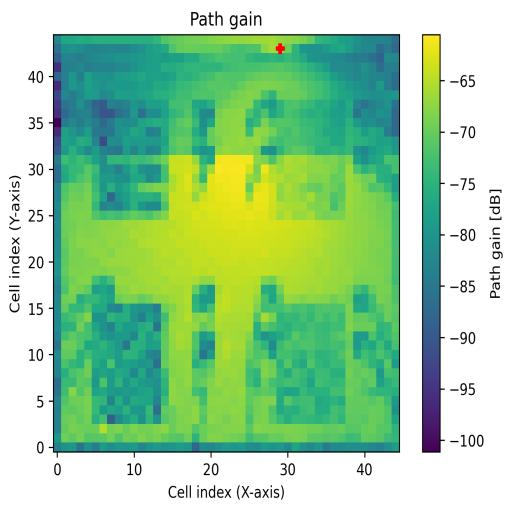Concrete: (269, 98, 346, 220)
Glass: (91, 71, 169, 219)
Metal: (276, 303, 347, 424)
Wood: (92, 303, 162, 426)
